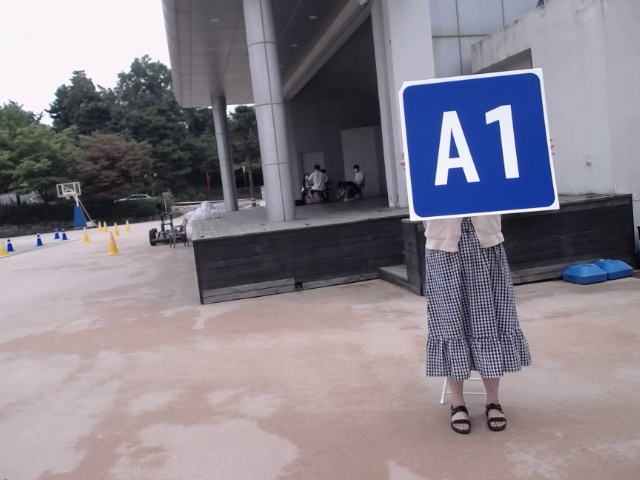delivery_a1: (401, 69, 556, 219)
